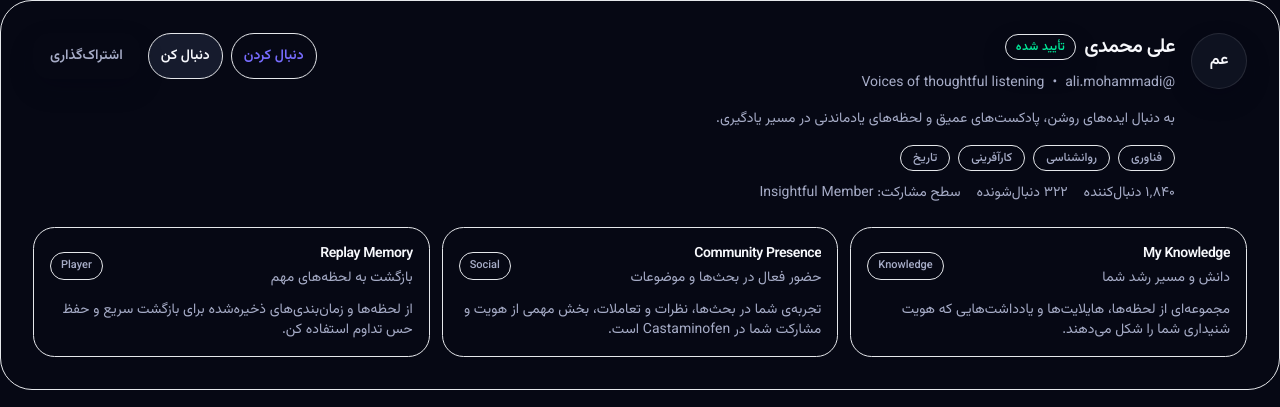
Test: profile experience › supports follow interaction in viewer mode
Click the button "دنبال کردن": (274, 56) [231, 33, 317, 79]
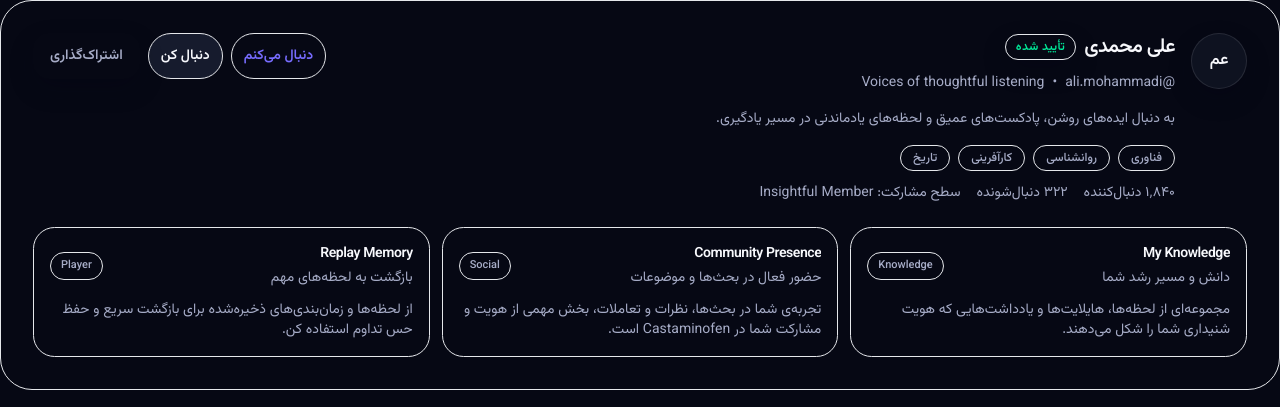
Result: the text "دنبال می‌کنم" is shown at [231, 33, 326, 79]
